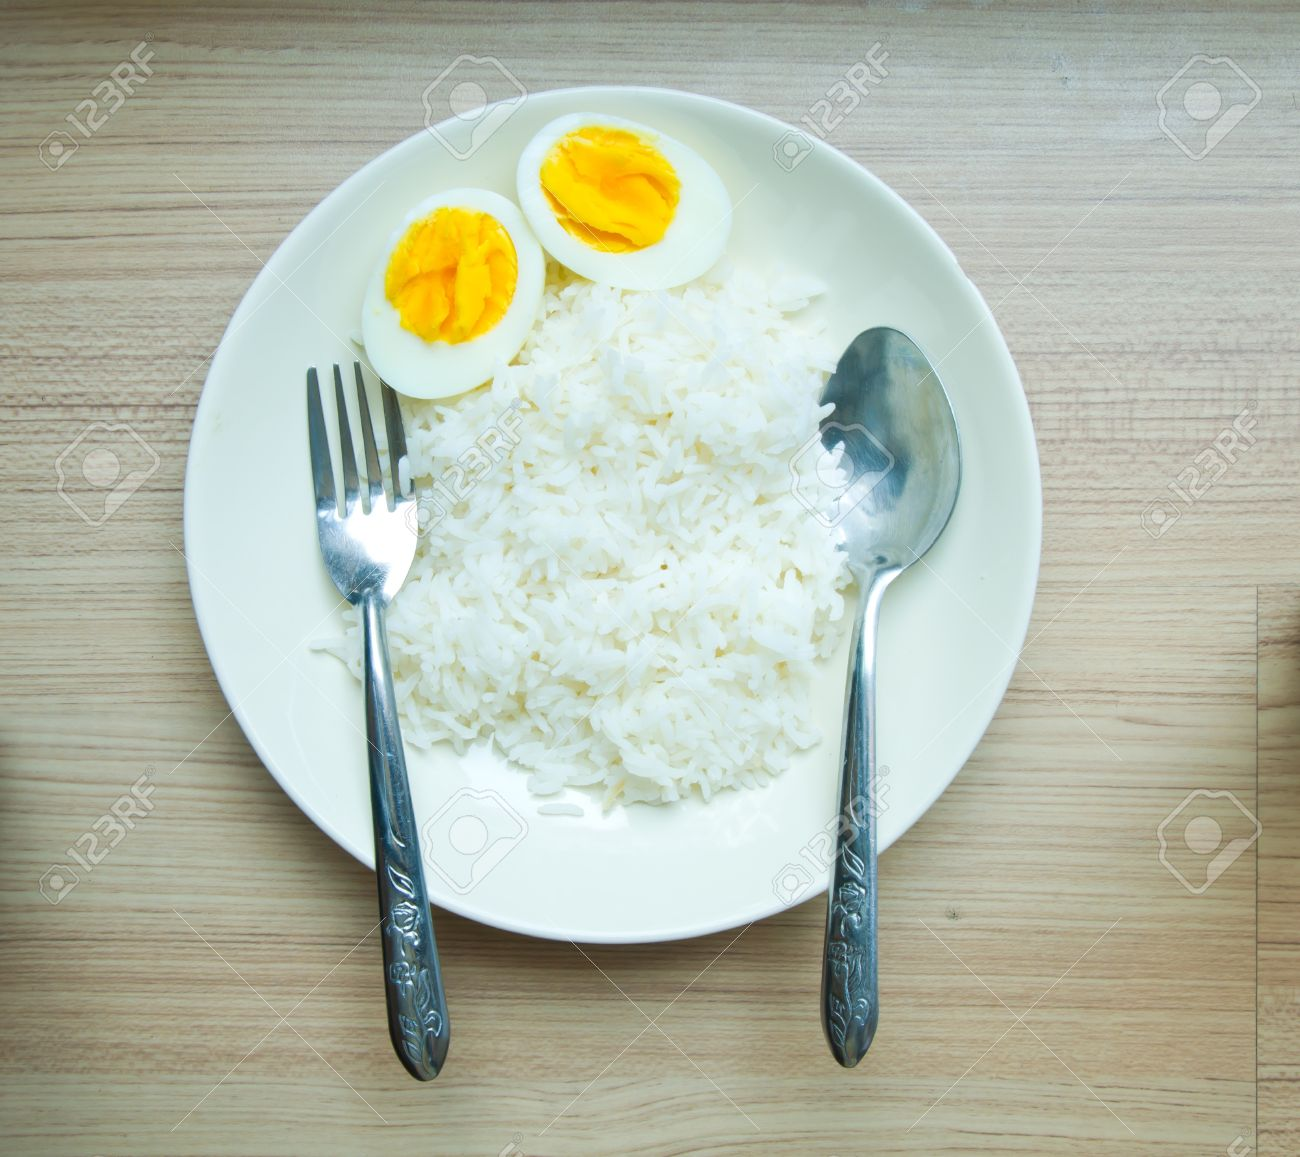egg: (344, 183, 565, 412), (488, 114, 761, 287)
rice: (412, 322, 878, 742)
